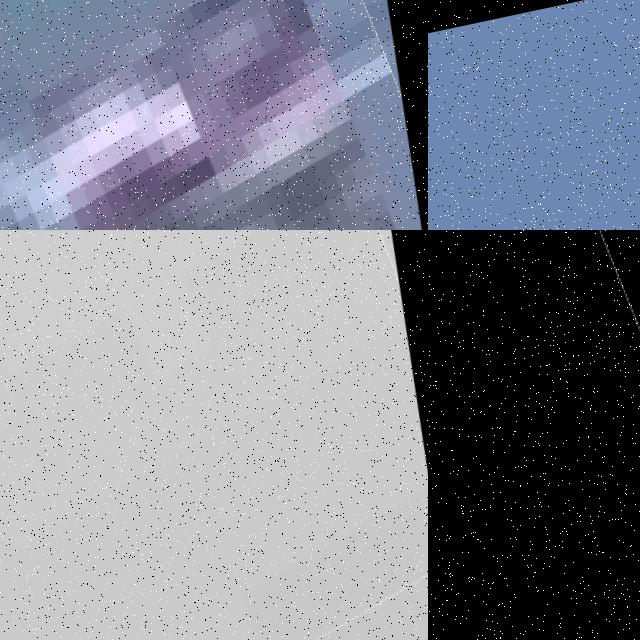drone: (0, 230, 428, 640), (0, 0, 428, 230), (428, 230, 640, 640)
